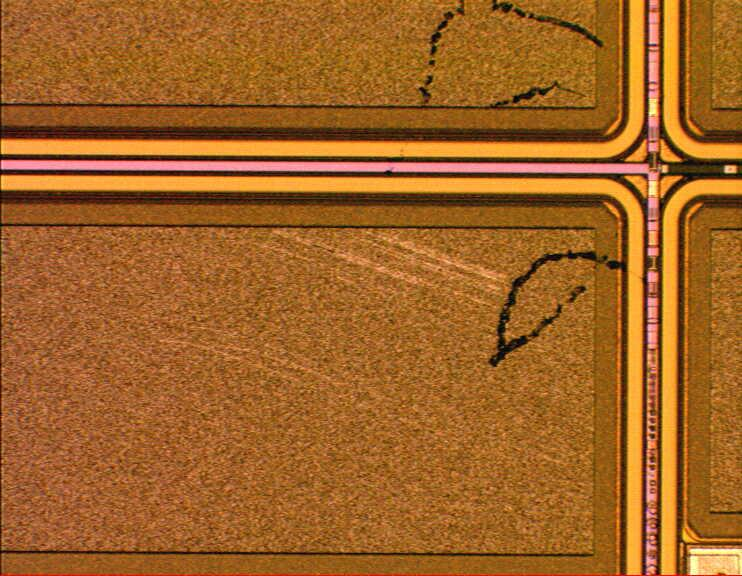SCRATCH: (99, 1, 647, 484)
